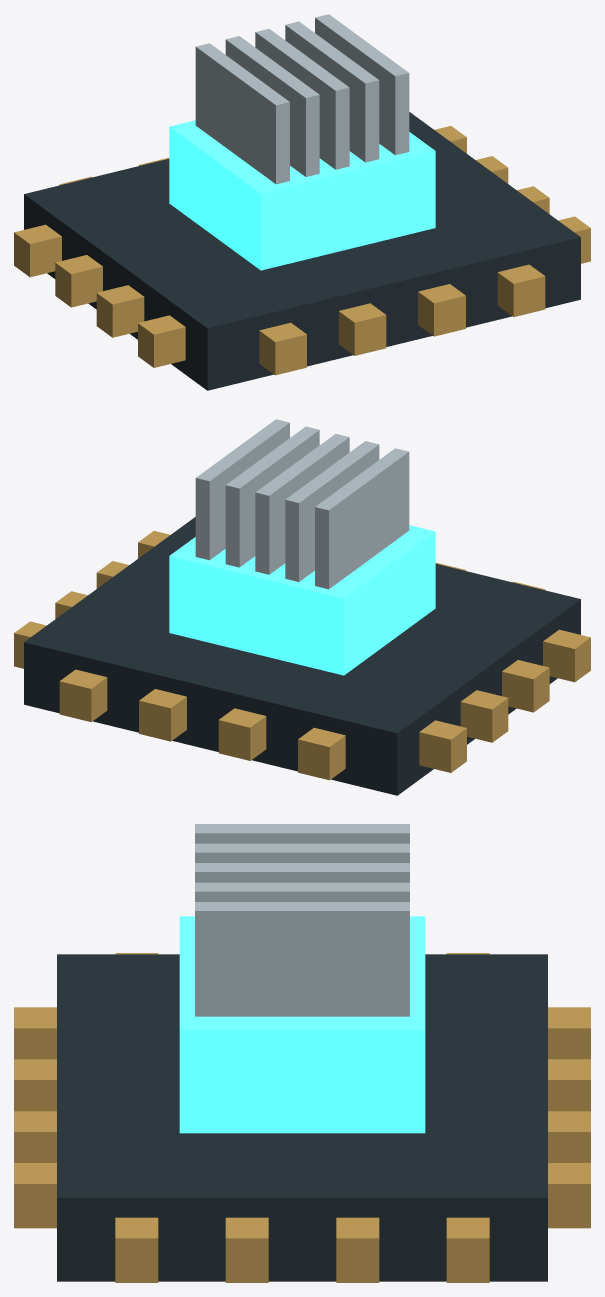
The model's file is plugin-algorithm-core.glb.
The picture shows the model from 3 angles, top to bottom: view 1: azimuth 30°, elevation 25°; view 2: azimuth 150°, elevation 25°; view 3: azimuth 270°, elevation 25°; orthographic projection. The views are drawn at different scales.
Parts seen in each view (by area): view 1: plugin circuit substrate, processor block, heatsink fin, heatsink fin.003, heatsink fin.004, heatsink fin.002, heatsink fin.001, gold edge connector.011, gold edge connector.009, gold edge connector, gold edge connector.010, gold edge connector.008 (+4 smaller); view 2: plugin circuit substrate, processor block, heatsink fin, heatsink fin.003, heatsink fin.004, heatsink fin.002, heatsink fin.001, gold edge connector.015, gold edge connector.013, gold edge connector.003, gold edge connector.014, gold edge connector.012 (+4 smaller); view 3: plugin circuit substrate, processor block, heatsink fin.004, heatsink fin, heatsink fin.001, heatsink fin.002, heatsink fin.003, gold edge connector.004, gold edge connector.005, gold edge connector.006, gold edge connector.007, gold edge connector.011 (+7 smaller).
Boxes of the visible parts, <box> form: plugin circuit substrate: <box>24,112,580,390</box>; processor block: <box>169,120,435,270</box>; heatsink fin: <box>195,43,289,184</box>; heatsink fin.003: <box>285,21,379,162</box>; heatsink fin.004: <box>315,14,409,155</box>; heatsink fin.002: <box>255,29,349,169</box>; heatsink fin.001: <box>225,36,319,176</box>; gold edge connector.011: <box>497,264,545,317</box>; gold edge connector.009: <box>338,303,386,355</box>; gold edge connector: <box>138,315,185,367</box>; gold edge connector.010: <box>418,284,465,336</box>; gold edge connector.008: <box>259,322,306,375</box>; plugin circuit substrate: <box>24,517,580,795</box>; processor block: <box>169,525,435,675</box>; heatsink fin: <box>315,448,409,589</box>; heatsink fin.003: <box>225,426,319,567</box>; heatsink fin.004: <box>195,419,289,560</box>; heatsink fin.002: <box>255,434,349,574</box>; heatsink fin.001: <box>285,441,379,581</box>; gold edge connector.015: <box>59,669,107,722</box>; gold edge connector.013: <box>218,708,266,760</box>; gold edge connector.003: <box>419,720,466,772</box>; gold edge connector.014: <box>139,689,186,741</box>; gold edge connector.012: <box>298,727,345,780</box>; plugin circuit substrate: <box>57,954,547,1281</box>; processor block: <box>179,916,425,1133</box>; heatsink fin.004: <box>195,902,409,1016</box>; heatsink fin: <box>195,824,409,843</box>; heatsink fin.001: <box>195,843,409,862</box>; heatsink fin.002: <box>195,863,409,882</box>; heatsink fin.003: <box>195,882,409,901</box>; gold edge connector.004: <box>115,1217,158,1282</box>; gold edge connector.005: <box>225,1217,268,1282</box>; gold edge connector.006: <box>336,1217,379,1282</box>; gold edge connector.007: <box>446,1217,489,1282</box>; gold edge connector.011: <box>14,1163,56,1228</box>.
Size of the model in its own units: 1.1 by 0.525 by 0.94.
